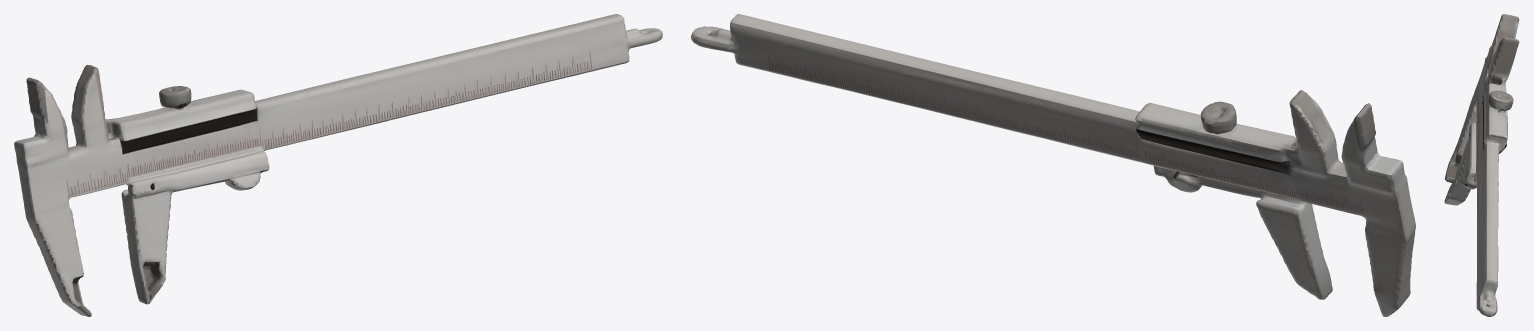
Rendered from caliper.glb.
The picture shows the model from 3 angles, left to right: view 1: azimuth 30°, elevation 25°; view 2: azimuth 150°, elevation 25°; view 3: azimuth 270°, elevation 25°; orthographic projection. The views are drawn at different scales.
Visible parts, largest first — view 1: textured_mesh.obj; view 2: textured_mesh.obj; view 3: textured_mesh.obj.
Boxes of the visible parts, x1,y1,x2,y2 form: textured_mesh.obj: (14, 14, 662, 316); textured_mesh.obj: (691, 14, 1415, 316); textured_mesh.obj: (1444, 14, 1519, 316).
Size of the model in its own units: 1.99 by 0.646 by 0.2665.
1 material, 1 textured.
